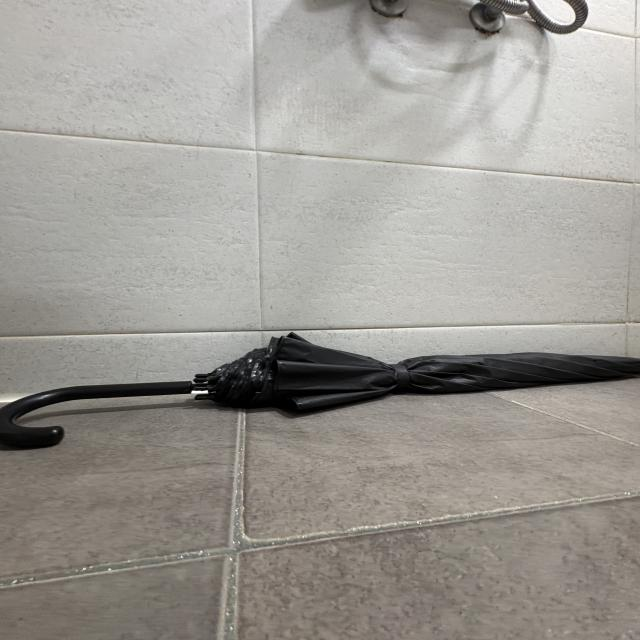umbrella: (0, 330, 640, 452)
